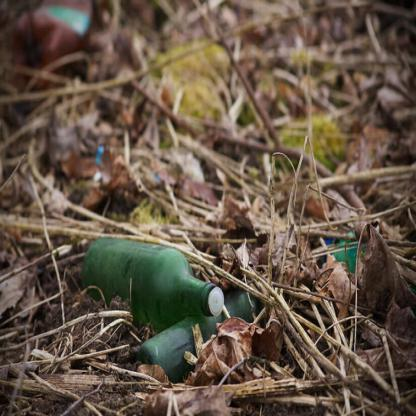Glass: (81, 235, 227, 322)
